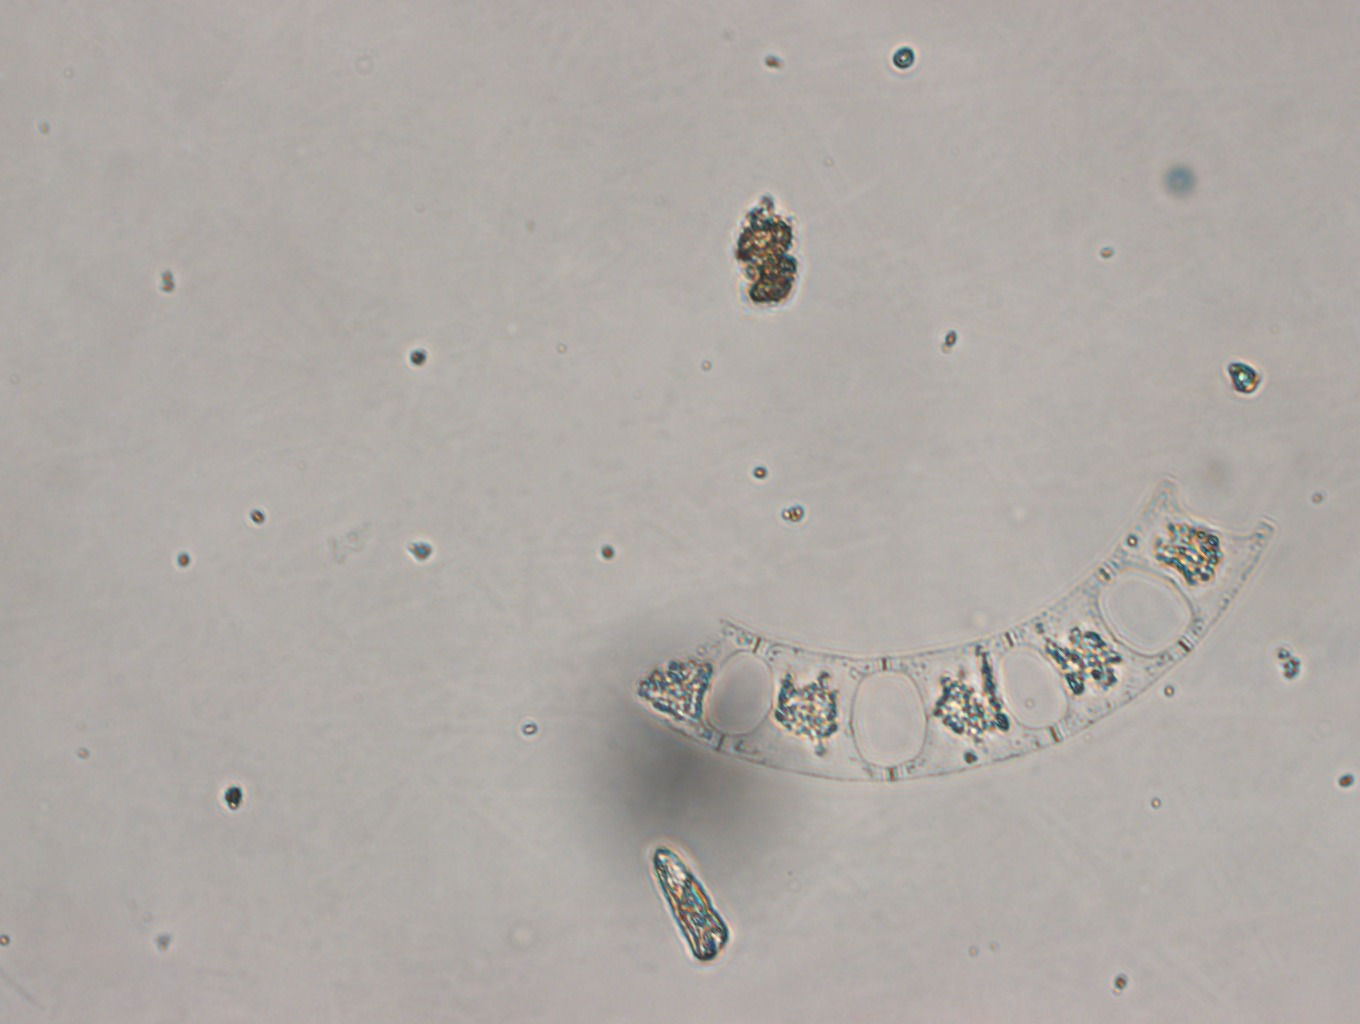eucampia: (634, 470, 1287, 796)
